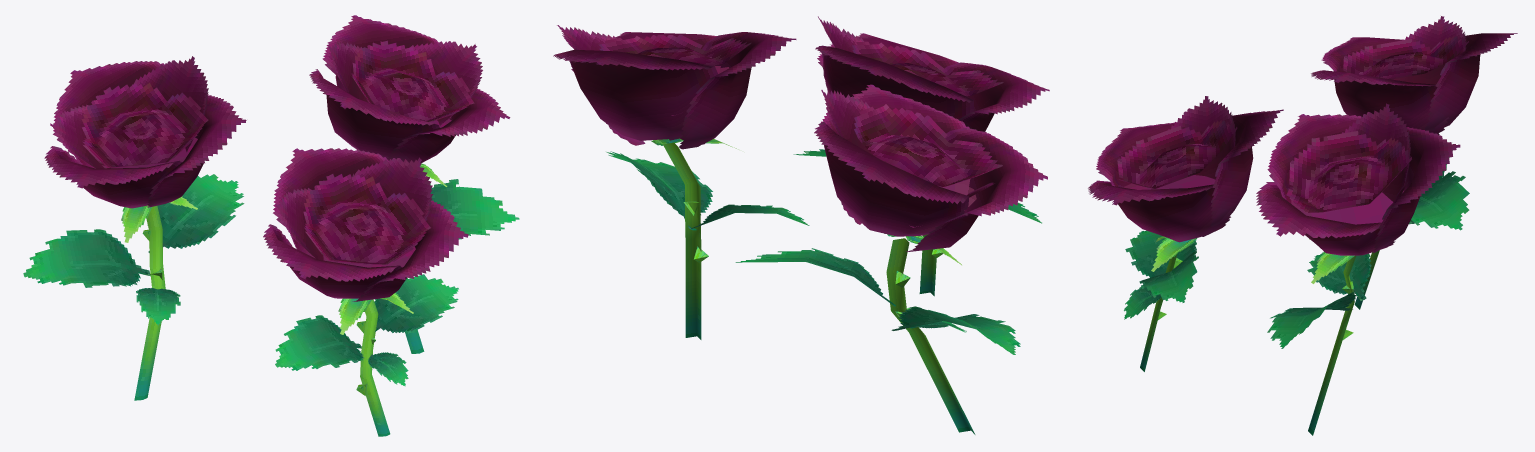
File: purple-roses.glb
3 renders of one model, left to right at view 1: azimuth 30°, elevation 25°; view 2: azimuth 150°, elevation 25°; view 3: azimuth 270°, elevation 25°, orthographic. The views are drawn at different scales.
Size of the model in its own units: 10.07 by 6.53 by 8.37.
Materials: 2 (2 with a texture image).
